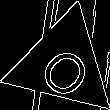O_NE: (30, 30, 96, 98)
